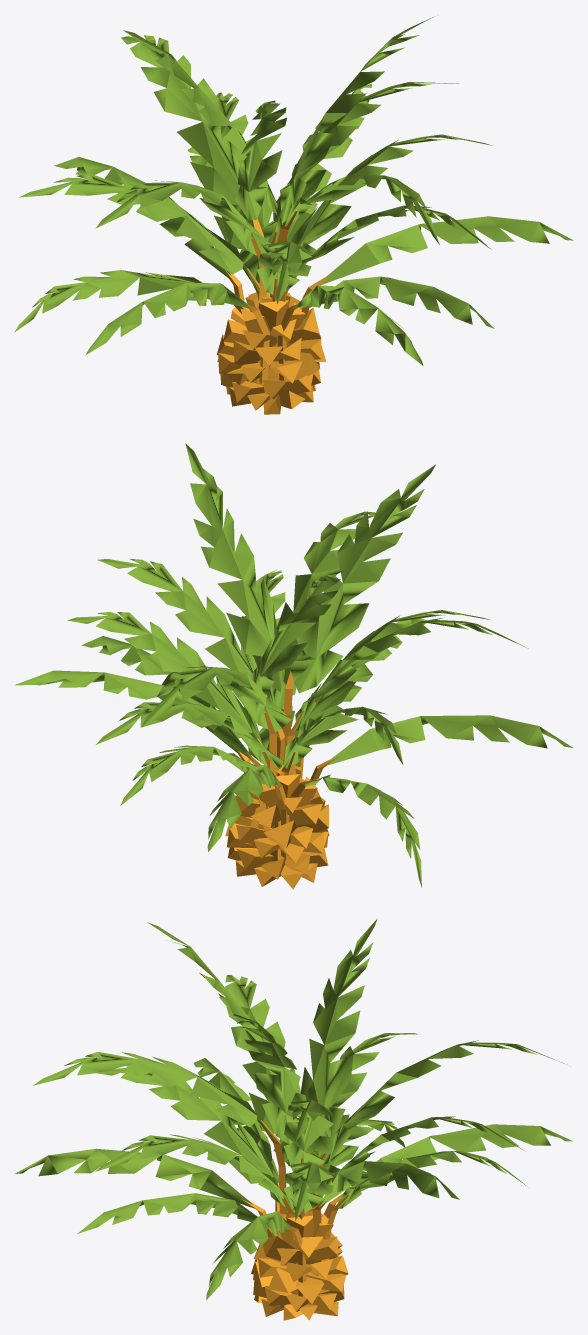
File: SM_Tree_Palm_Canary_Date_B.fbx
3 renders of one model, top to bottom at view 1: azimuth 30°, elevation 25°; view 2: azimuth 150°, elevation 25°; view 3: azimuth 270°, elevation 25°, orthographic. The views are drawn at different scales.
Parts seen in each view (by area): view 1: SM_Tree_Palm_Canary_Date_B; view 2: SM_Tree_Palm_Canary_Date_B; view 3: SM_Tree_Palm_Canary_Date_B.
Part boxes in pixels (box(x1,y1,x2,y2)): SM_Tree_Palm_Canary_Date_B: box(14, 16, 573, 414); SM_Tree_Palm_Canary_Date_B: box(14, 443, 572, 889); SM_Tree_Palm_Canary_Date_B: box(14, 918, 572, 1320).
Size of the model in its own units: 4.68 by 3.42 by 4.88.
